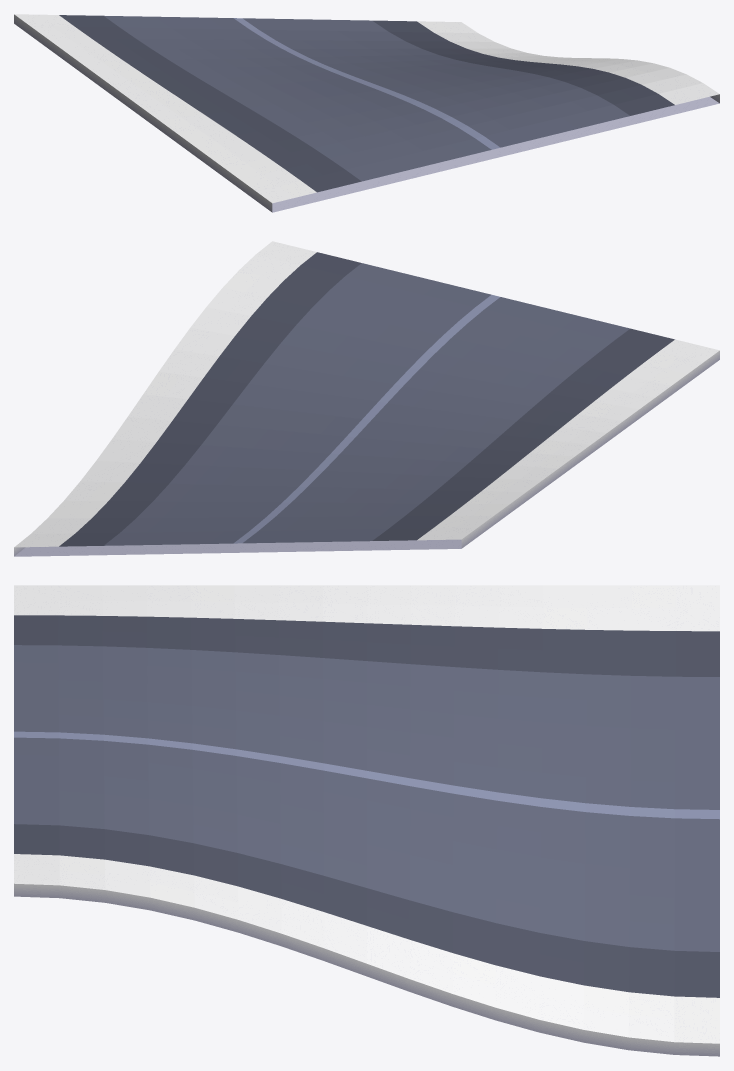
File: road-Straight-Flat-HalfBankedRight-Down1-Center-Size1.glb
3 views of the same model, one above another, from view 1: azimuth 30°, elevation 25°; view 2: azimuth 150°, elevation 25°; view 3: azimuth 270°, elevation 25° (orthographic). The views are drawn at different scales.
Parts seen in each view (by area): view 1: road-Straight-Flat-HalfBankedRight-Down1-Center-Size1; view 2: road-Straight-Flat-HalfBankedRight-Down1-Center-Size1; view 3: road-Straight-Flat-HalfBankedRight-Down1-Center-Size1.
Part boxes in pixels (x1=…): road-Straight-Flat-HalfBankedRight-Down1-Center-Size1: x1=14, y1=14, x2=719, y2=212; road-Straight-Flat-HalfBankedRight-Down1-Center-Size1: x1=14, y1=241, x2=719, y2=556; road-Straight-Flat-HalfBankedRight-Down1-Center-Size1: x1=14, y1=585, x2=719, y2=1056.
Size of the model in its own units: 1 by 0.27 by 1.
Materials: 1 (1 with a texture image).
